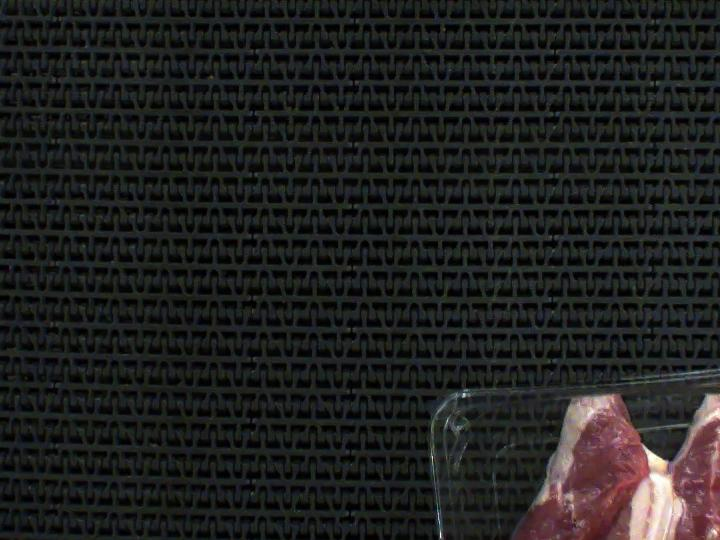packaging-error: (553, 333, 720, 427)
